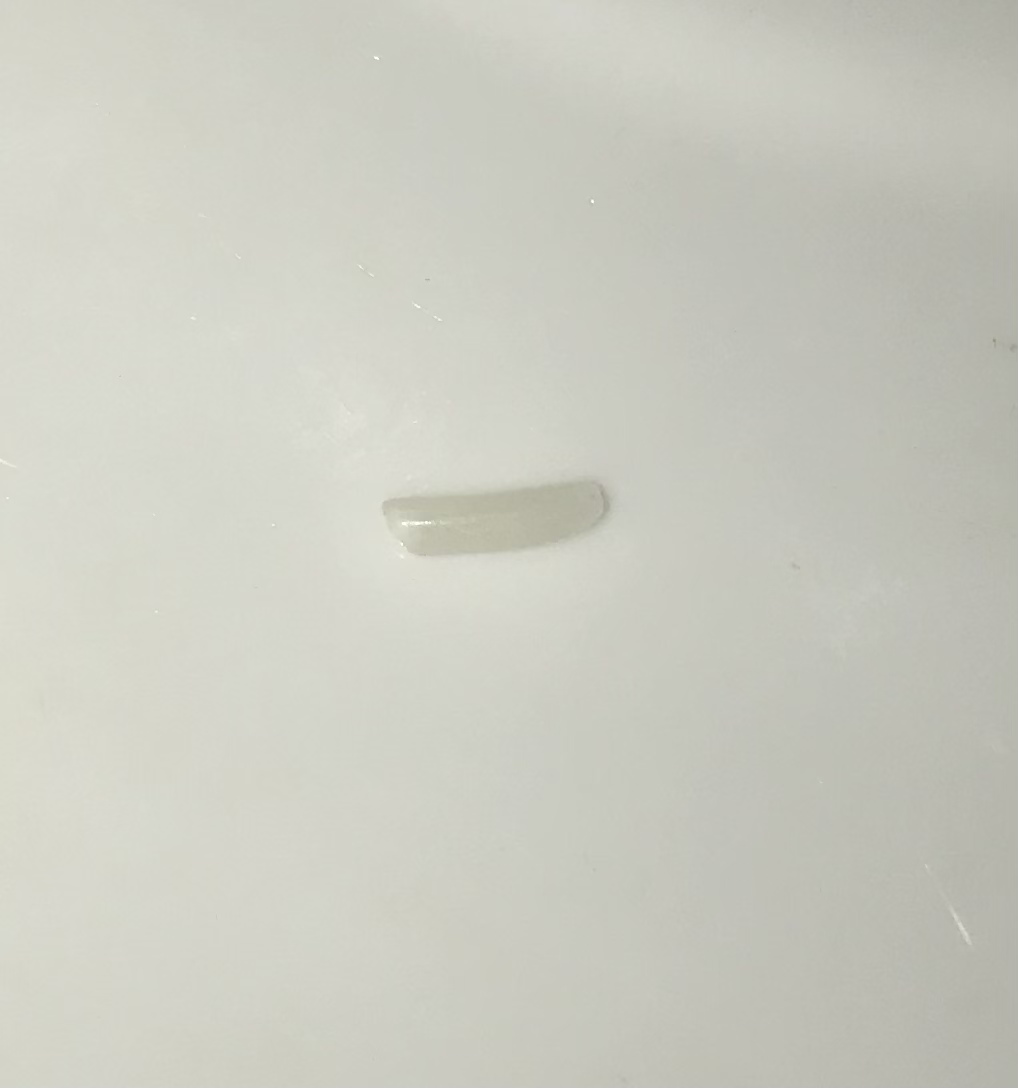Gao Ngoc Troi: (375, 474, 623, 578)
